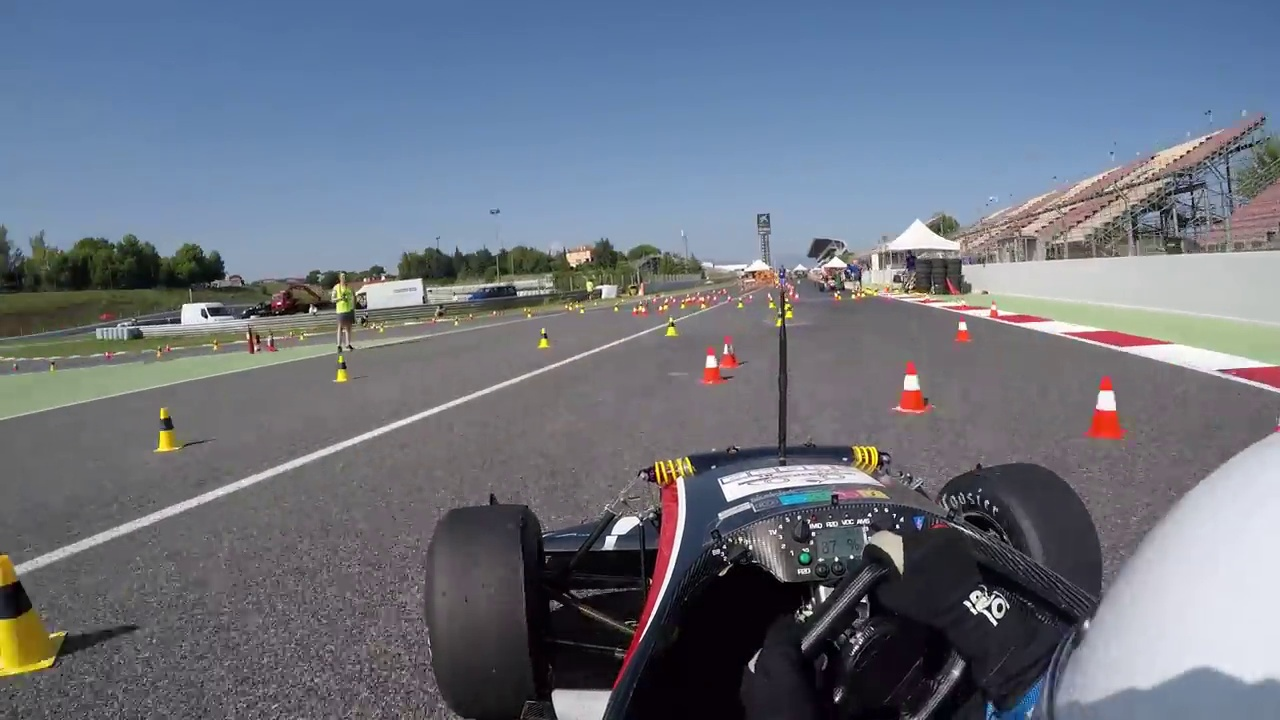Cone: (1, 550, 66, 680), (1084, 373, 1129, 438), (894, 359, 931, 412), (697, 344, 727, 384), (156, 407, 181, 453), (718, 332, 741, 368), (334, 353, 357, 384)
